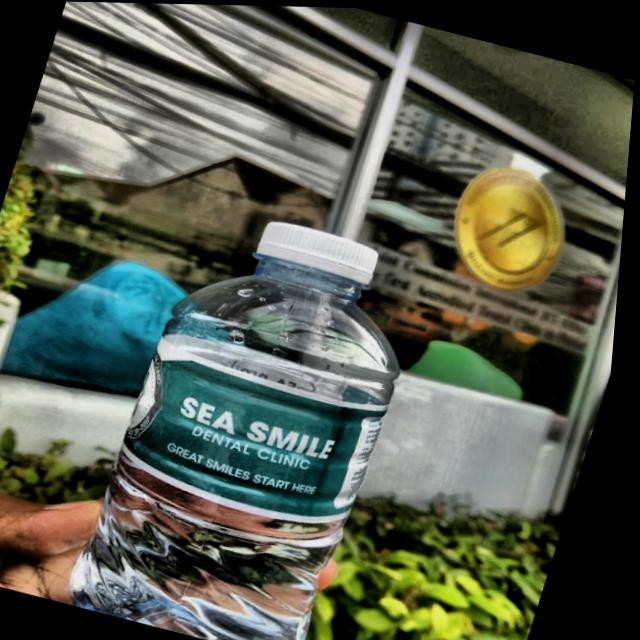Bottles: (63, 171, 475, 640)
